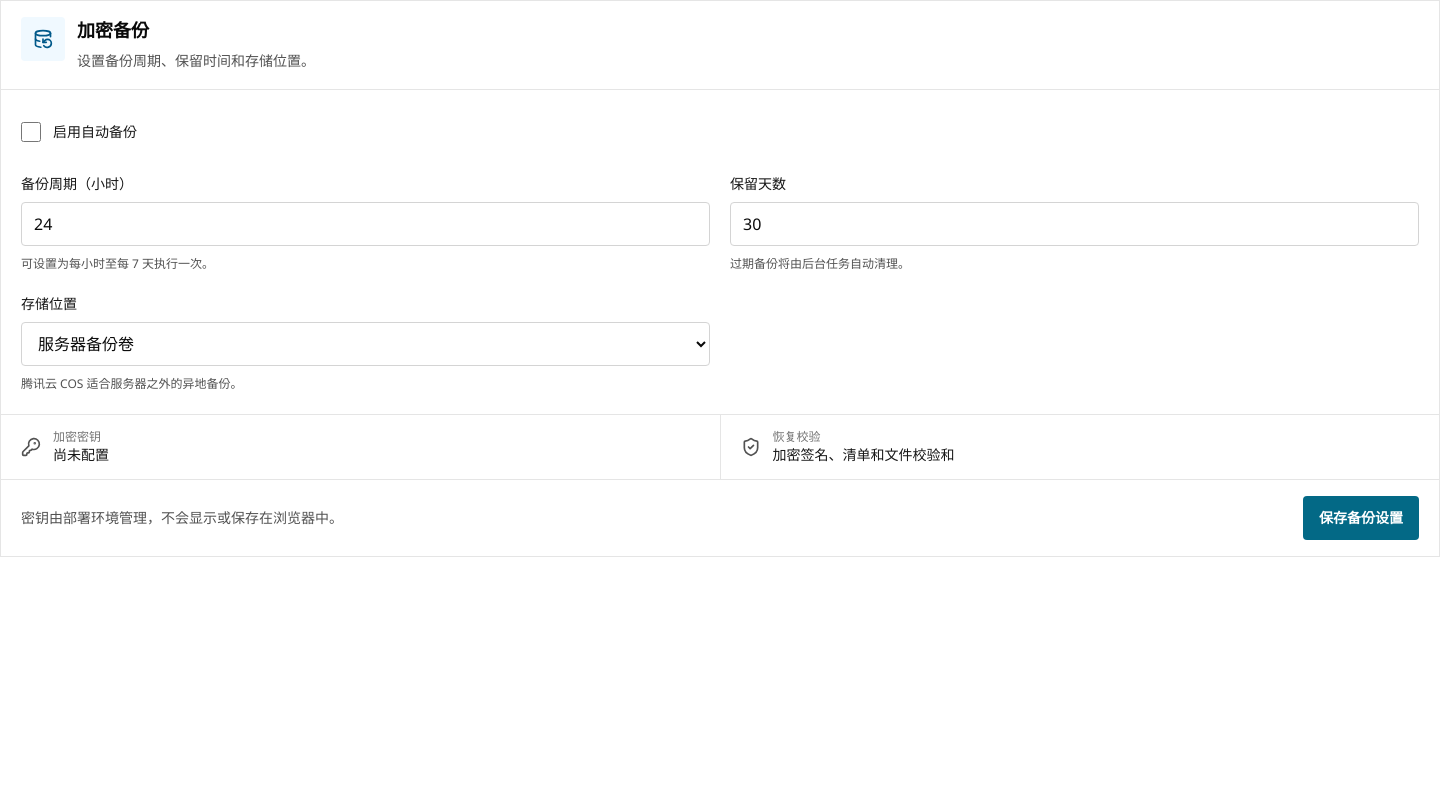
Test: BackupSettingsForm › prevents enabling backups until encryption is configured
The image size is (1440, 810).
Click the checkbox labelled "启用自动备份".
click(31, 132)  # box [21,122,41,142]
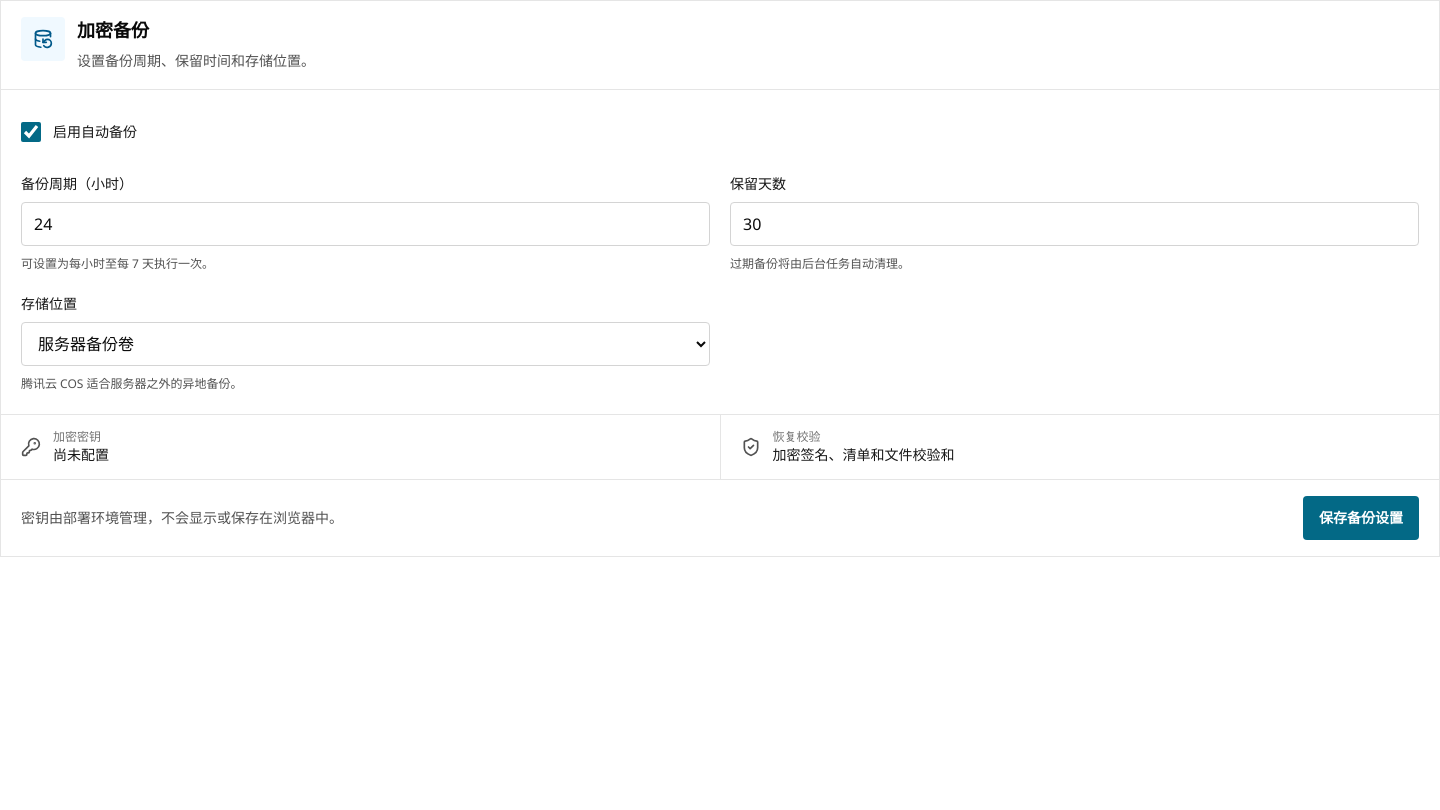
Click the button "保存备份设置".
click(1361, 518)  # box [1303,496,1419,540]
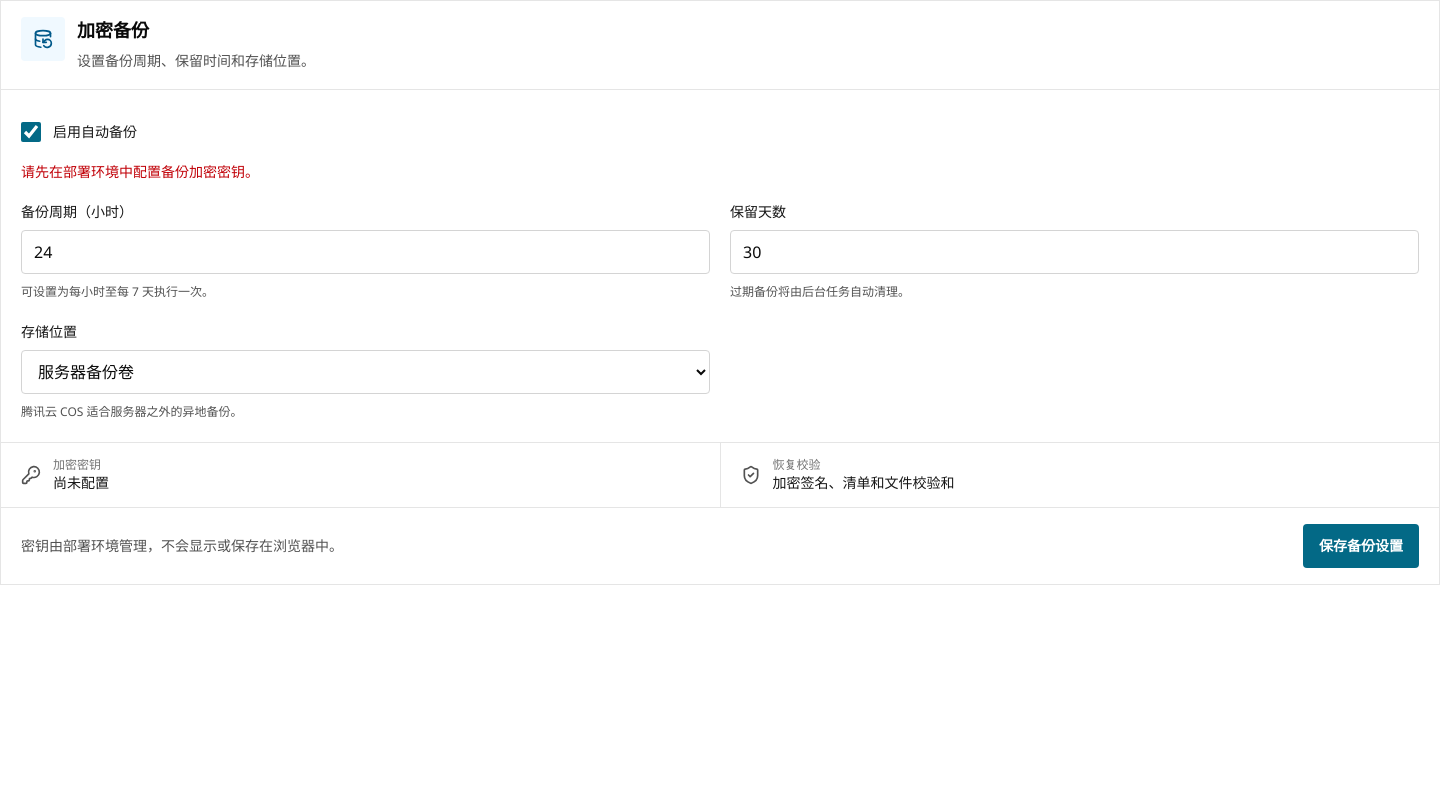
Now the text "请先在部署环境中配置备份加密密钥。" is shown, box [21,162,259,181]
